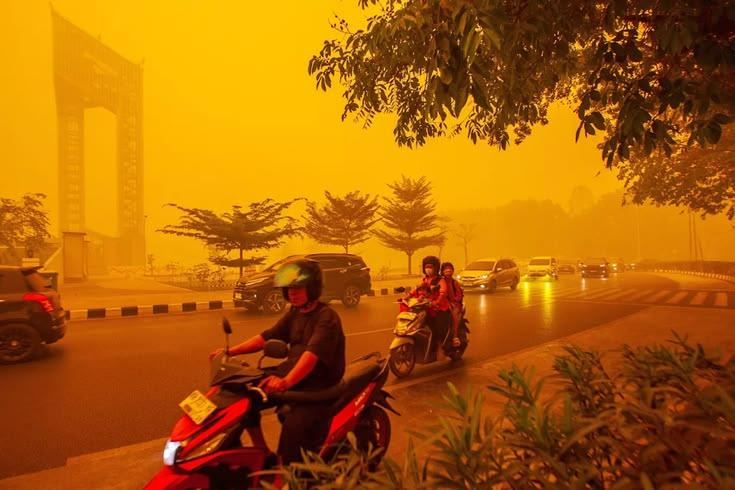Gedung: (35, 0, 167, 283)
Kendaraan: (135, 333, 415, 490), (0, 261, 81, 375), (225, 260, 387, 314), (446, 240, 522, 295), (520, 245, 561, 288), (574, 246, 608, 282)
Manusia: (235, 251, 348, 485), (406, 251, 446, 350), (439, 254, 474, 339)
Vegetasi: (315, 0, 735, 193), (238, 346, 735, 490), (161, 186, 305, 288), (374, 169, 442, 278), (299, 193, 383, 261), (0, 186, 53, 266)
